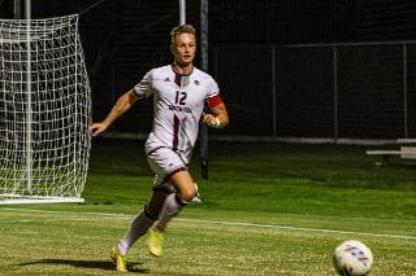person: (86, 22, 231, 275)
